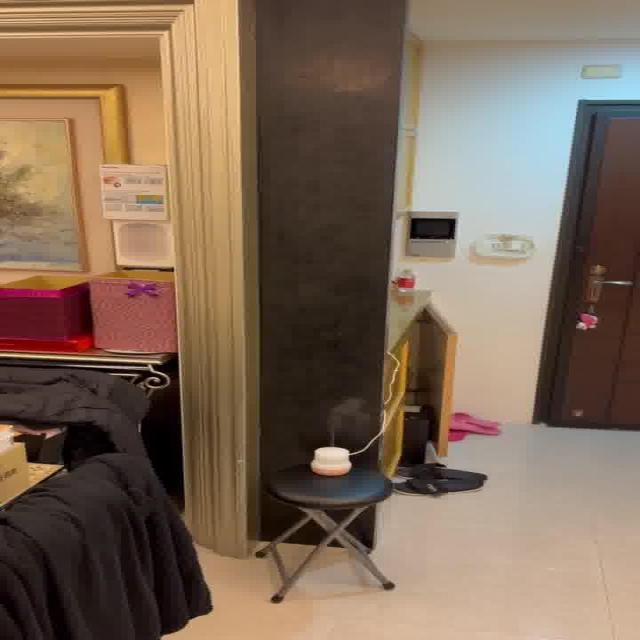fire: (322, 396, 365, 438)
